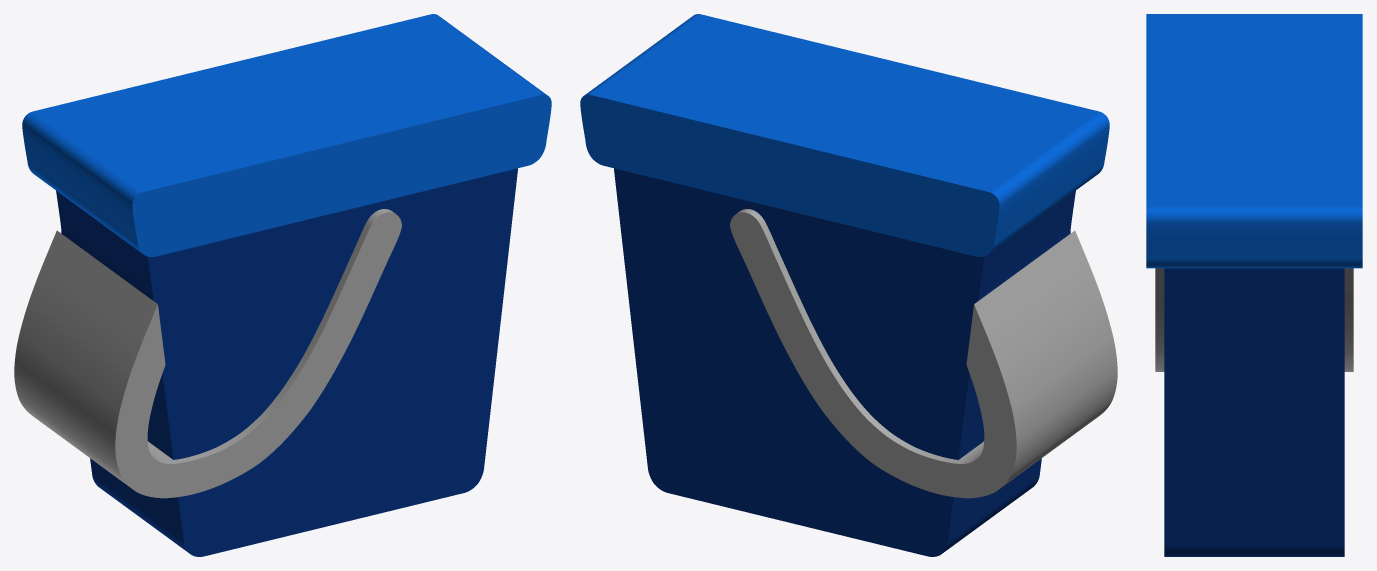
Rendered from U+1FAA3.obj.
3 views of the same model, side by side, from view 1: azimuth 30°, elevation 25°; view 2: azimuth 150°, elevation 25°; view 3: azimuth 270°, elevation 25° (orthographic).
Visible parts, largest first — view 1: U+1FAA3_layer00_obj00, U+1FAA3_layer02_obj00, U+1FAA3_layer01_obj00; view 2: U+1FAA3_layer00_obj00, U+1FAA3_layer02_obj00, U+1FAA3_layer01_obj00; view 3: U+1FAA3_layer02_obj00, U+1FAA3_layer00_obj00, U+1FAA3_layer01_obj00.
Part boxes in pixels (bbox=[...]): U+1FAA3_layer00_obj00: bbox=[56, 168, 517, 556]; U+1FAA3_layer02_obj00: bbox=[22, 14, 551, 256]; U+1FAA3_layer01_obj00: bbox=[14, 209, 401, 498]; U+1FAA3_layer00_obj00: bbox=[614, 168, 1075, 556]; U+1FAA3_layer02_obj00: bbox=[580, 14, 1109, 256]; U+1FAA3_layer01_obj00: bbox=[730, 209, 1117, 498]; U+1FAA3_layer02_obj00: bbox=[1146, 14, 1362, 268]; U+1FAA3_layer00_obj00: bbox=[1164, 268, 1344, 556]; U+1FAA3_layer01_obj00: bbox=[1155, 268, 1353, 371].
Bounding box in the file's own units: 0.543 × 0.4664 × 0.24.
